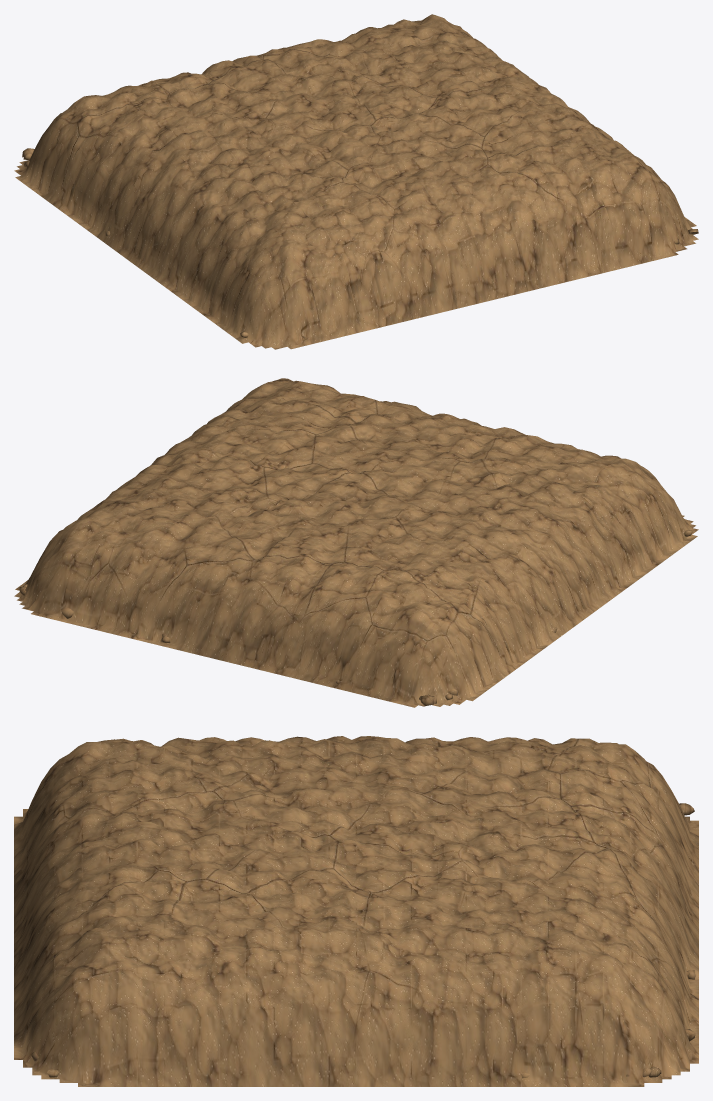
The model's file is soil.glb.
The picture shows the model from 3 angles, top to bottom: view 1: azimuth 30°, elevation 25°; view 2: azimuth 150°, elevation 25°; view 3: azimuth 270°, elevation 25°; orthographic projection. The views are drawn at different scales.
Visible parts, largest first — view 1: SoilMound; view 2: SoilMound; view 3: SoilMound.
Boxes of the visible parts, x1,y1,x2,y2 form: SoilMound: (14, 14, 698, 349); SoilMound: (14, 378, 698, 707); SoilMound: (14, 736, 698, 1086).
Size of the model in its own units: 0.75 by 0.1352 by 0.75.
Materials: 1 (1 with a texture image).
